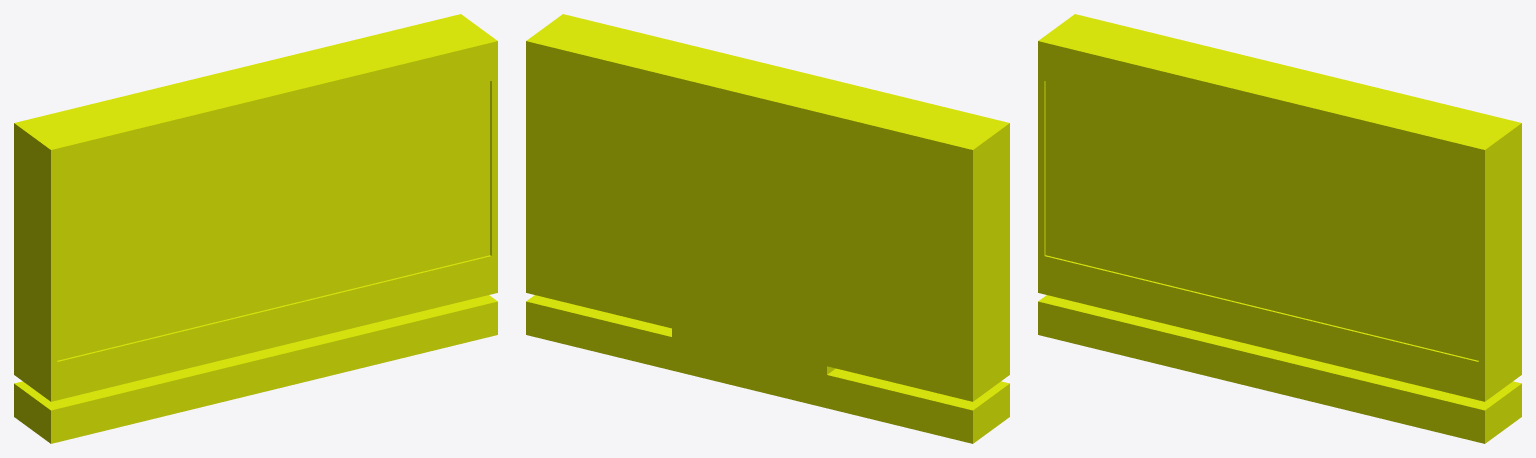
3 renders of one model, left to right at view 1: azimuth 30°, elevation 25°; view 2: azimuth 150°, elevation 25°; view 3: azimuth 330°, elevation 25°, orthographic.
Visible parts, largest first — view 1: Box032; view 2: Box032; view 3: Box032.
Boxes of the visible parts, x1,y1,x2,y2 form: Box032: (14,14,497,443); Box032: (526,14,1009,443); Box032: (1038,14,1521,443).
Size of the model in its own units: 1.41 by 0.8851 by 0.2018.
